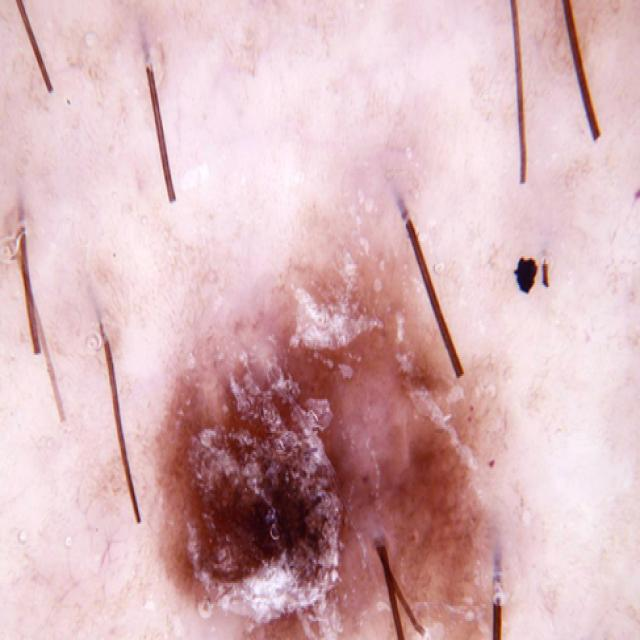Carcinoma: (106, 226, 497, 640)
